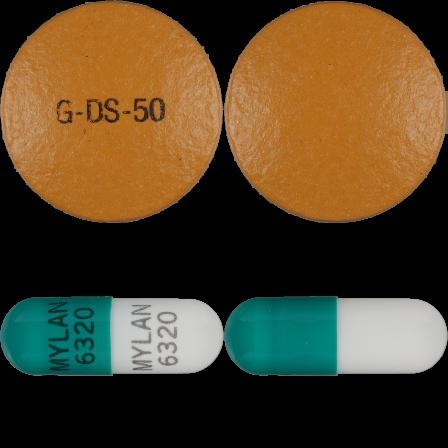0378-6280: (0, 0, 224, 224)
